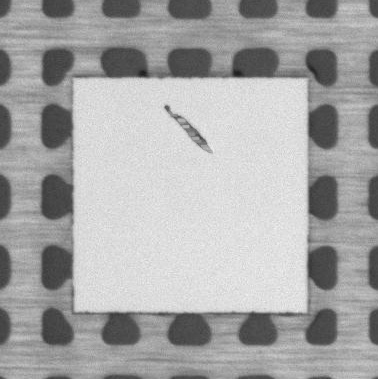DIE_INK: (157, 97, 216, 157)
